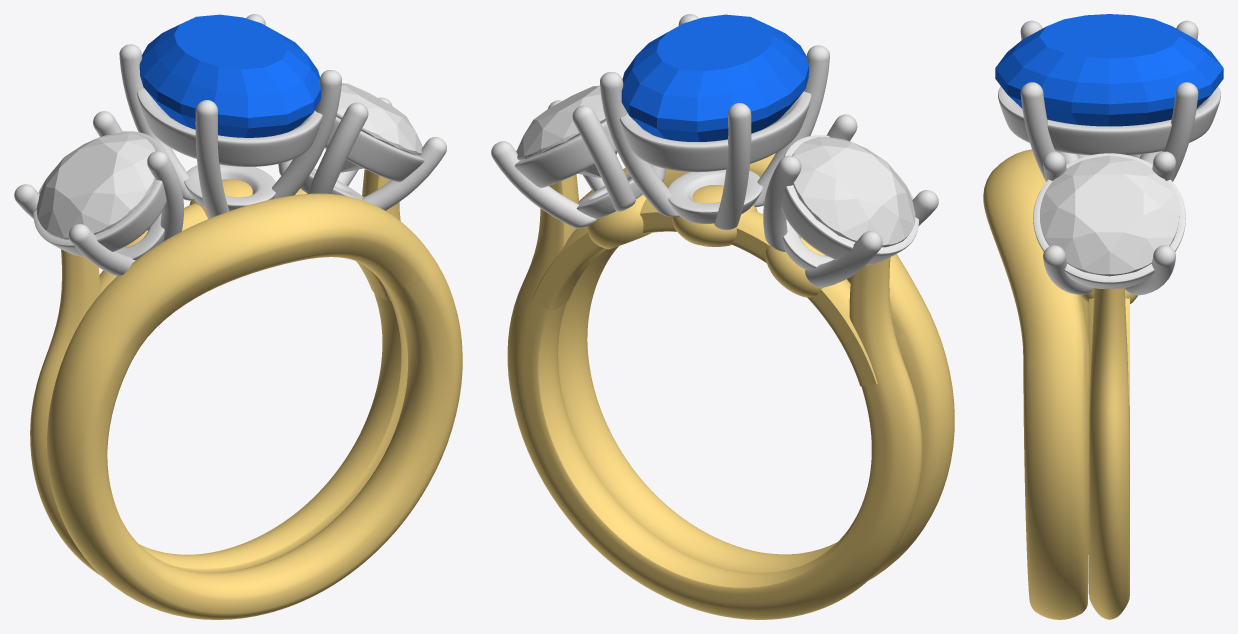
File: v2AbiBOTH_blender.glb
3 views of the same model, side by side, from view 1: azimuth 30°, elevation 25°; view 2: azimuth 150°, elevation 25°; view 3: azimuth 270°, elevation 25° (orthographic). The views are drawn at different scales.
Visible parts, largest first — view 1: v2 Abi YG BOTH for 3d model, Abi PT both for 3d model, Abi sapph both for 3d model, Abi dia both for 3d model, Abi dia both for 3d model.001; view 2: v2 Abi YG BOTH for 3d model, Abi PT both for 3d model, Abi sapph both for 3d model, Abi dia both for 3d model, Abi dia both for 3d model.001; view 3: v2 Abi YG BOTH for 3d model, Abi sapph both for 3d model, Abi PT both for 3d model, Abi dia both for 3d model.001.
Boxes of the visible parts, x1=… form: v2 Abi YG BOTH for 3d model: x1=30, y1=169, x2=462, y2=619; Abi PT both for 3d model: x1=14, y1=14, x2=446, y2=276; Abi sapph both for 3d model: x1=139, y1=14, x2=320, y2=137; Abi dia both for 3d model: x1=36, y1=132, x2=155, y2=239; Abi dia both for 3d model.001: x1=325, y1=83, x2=422, y2=172; v2 Abi YG BOTH for 3d model: x1=507, y1=153, x2=954, y2=619; Abi PT both for 3d model: x1=491, y1=14, x2=938, y2=287; Abi sapph both for 3d model: x1=621, y1=14, x2=808, y2=141; Abi dia both for 3d model: x1=792, y1=136, x2=915, y2=247; Abi dia both for 3d model.001: x1=516, y1=85, x2=617, y2=177; v2 Abi YG BOTH for 3d model: x1=983, y1=149, x2=1137, y2=619; Abi sapph both for 3d model: x1=995, y1=14, x2=1223, y2=126; Abi PT both for 3d model: x1=998, y1=20, x2=1220, y2=295; Abi dia both for 3d model.001: x1=1040, y1=155, x2=1179, y2=276.
Bounding box in the file's own units: 20.83 × 27.1 × 10.53.
